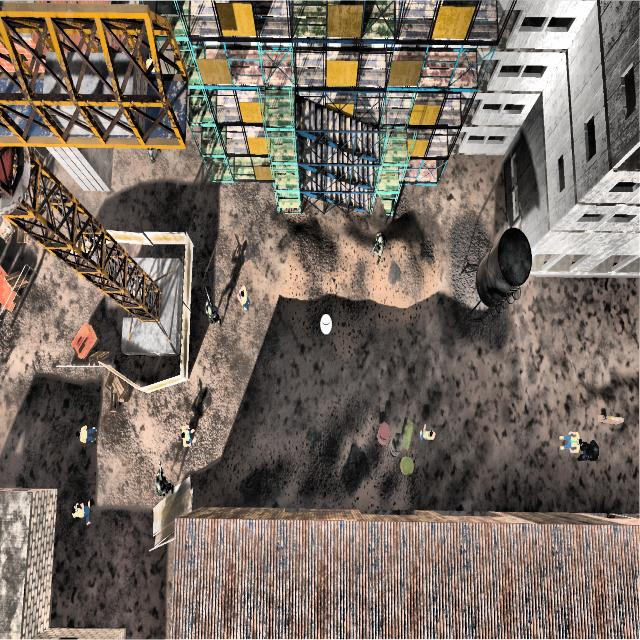bad: (577, 434, 608, 469), (369, 223, 392, 270), (201, 290, 223, 330), (153, 467, 177, 500)
good: (69, 490, 96, 529), (176, 411, 198, 456), (75, 419, 102, 454), (555, 428, 582, 461), (233, 279, 257, 315), (414, 419, 440, 447)
